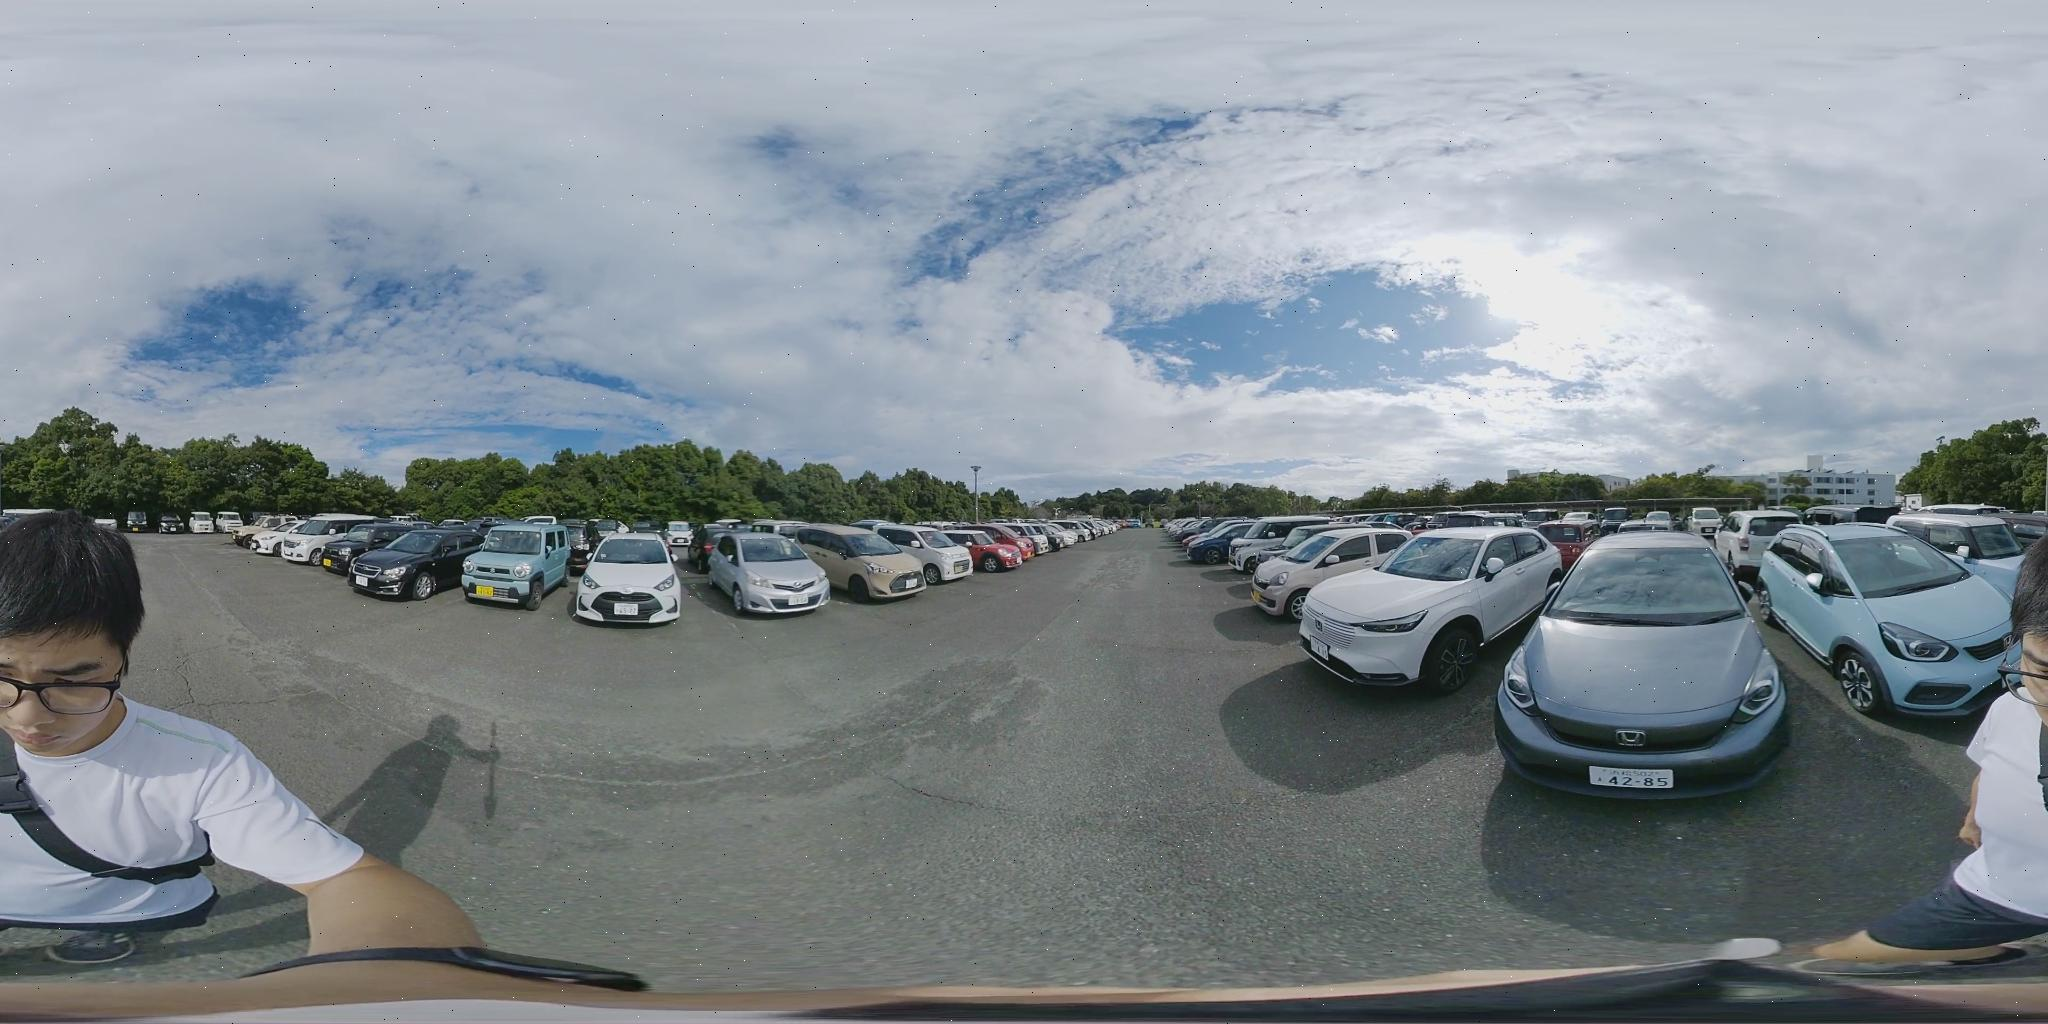car: (1497, 522, 1800, 790), (1748, 524, 2019, 721), (1292, 528, 1570, 688), (1250, 532, 1424, 623), (777, 522, 942, 601), (340, 526, 488, 603), (573, 536, 691, 628), (708, 533, 836, 616), (458, 522, 573, 609), (1229, 519, 1356, 577), (278, 519, 397, 566), (886, 525, 984, 581), (1720, 509, 1809, 569), (1179, 519, 1289, 567)
